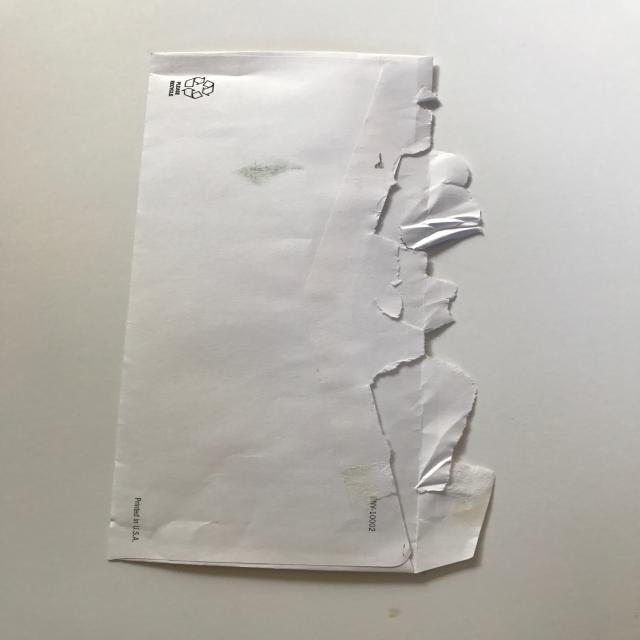paper: (106, 44, 496, 574)
